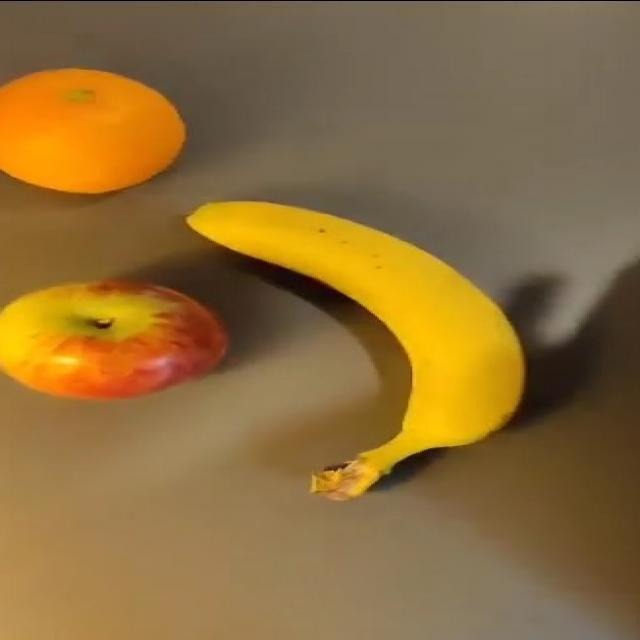Apple: (0, 277, 229, 400)
Banana: (184, 198, 527, 501)
Orange: (0, 66, 187, 195)
